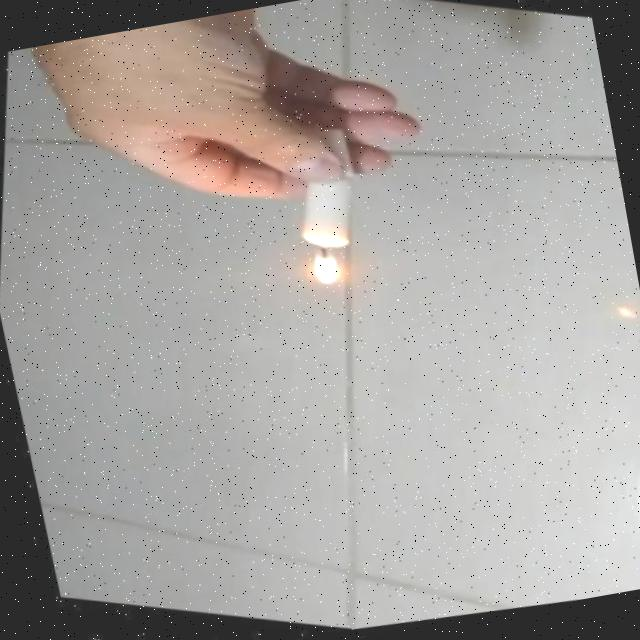fire: (295, 236, 357, 301)
